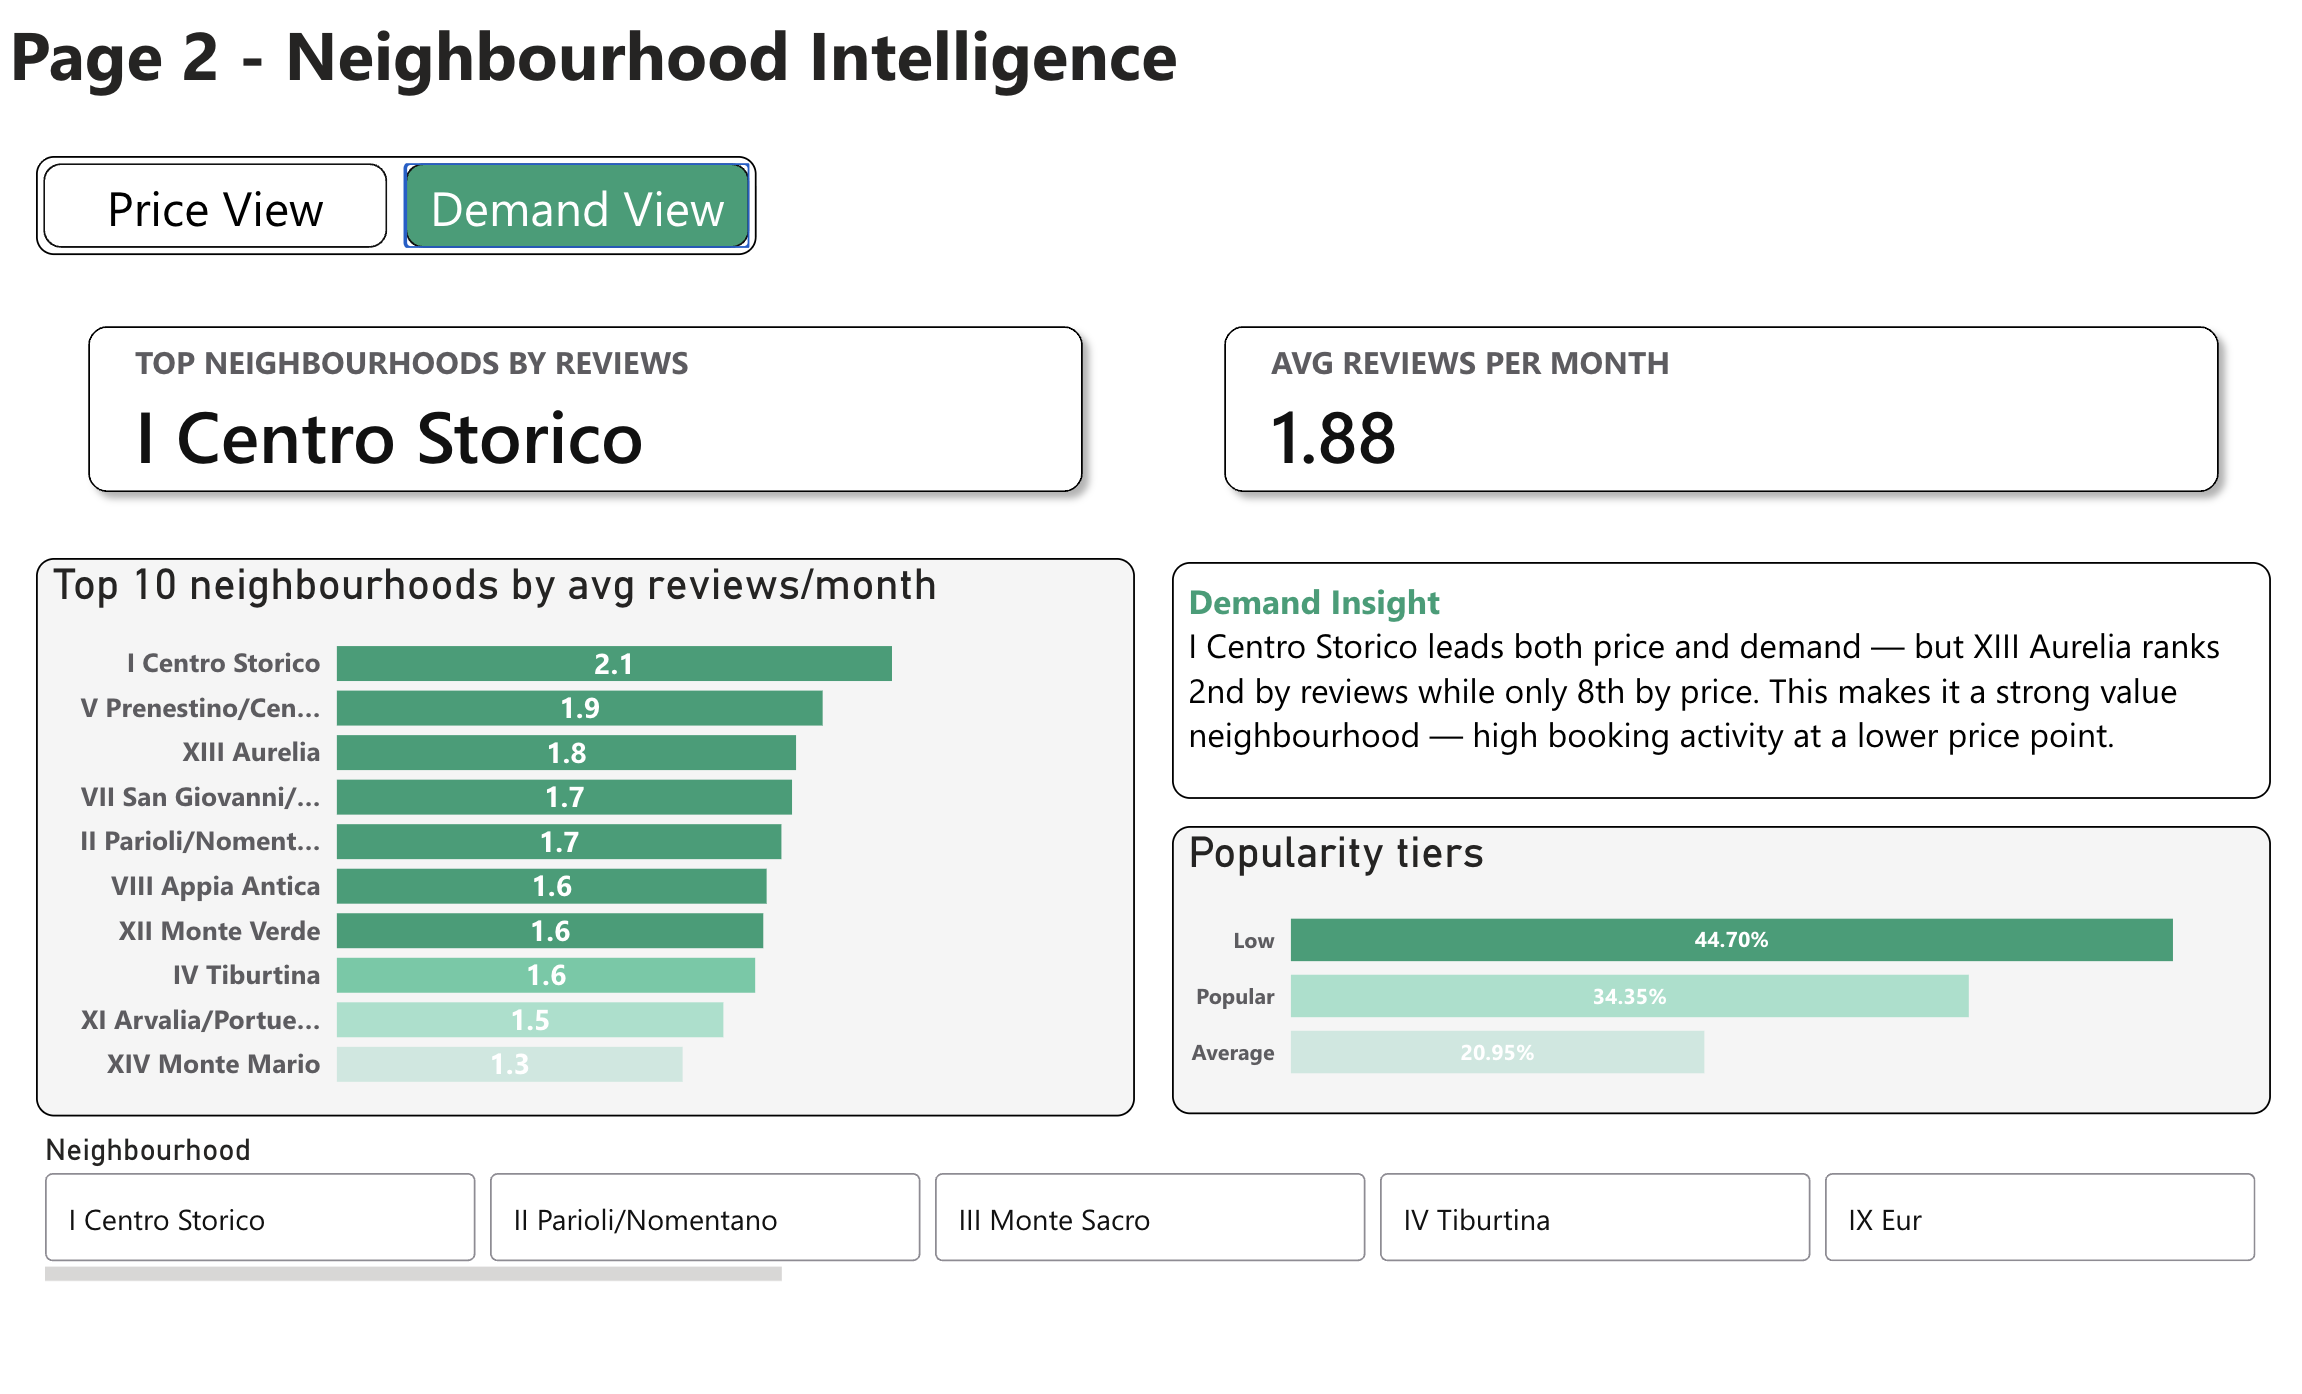

This screenshot's page, from the dashboard's own definition file:
{"tool":"powerbi","page":{"name":"Neighbourhood Intelligence","canvas":[1280,720],"ordinal":1},"visuals":[{"type":"textbox","box":[0,0,1280,70],"z":0},{"type":"cardVisual","fields":{"Data":["AllMeasures.Top Neighbourhood By Reviews"]},"box":[20,153,610,150],"z":2000},{"type":"barChart","title":"Top 10 neighbourhoods by avg reviews/month","fields":{"Category":["airbnb_data.neighbourhood"],"Y":["AllMeasures.Avg Reviews Per Month"]},"box":[20,311,610,310],"z":4000},{"type":"textbox","box":[650,313,610,131.7],"z":6000},{"type":"advancedSlicerVisual","fields":{"Values":["airbnb_data.neighbourhood"]},"box":[20,632,1240,88.3],"z":8000},{"type":"cardVisual","fields":{"Data":["AllMeasures.Avg Reviews Per Month"]},"box":[650,153,610,150],"z":10000},{"type":"clusteredBarChart","title":"Popularity tiers","fields":{"Y":["AllMeasures.Total Listings"],"Category":["airbnb_data.Popularity"]},"box":[650,460,610,160],"z":11000},{"type":"bookmarkNavigator","box":[20,88,400,55],"z":12000}]}

Visuals, with their boxes on the page's 1280x720 design canvas (x1, y1, x2, y2). These are canvas units, not pixel positions in the 2302x1394 screenshot, which may show the page scaled, cropped or inside an application window:
textbox: detection(0, 0, 1280, 70)
cardVisual - AllMeasures.Top Neighbourhood By Reviews: detection(20, 153, 630, 303)
"Top 10 neighbourhoods by avg reviews/month" barChart: detection(20, 311, 630, 621)
textbox: detection(650, 313, 1260, 445)
advancedSlicerVisual - airbnb_data.neighbourhood: detection(20, 632, 1260, 720)
cardVisual - AllMeasures.Avg Reviews Per Month: detection(650, 153, 1260, 303)
"Popularity tiers" clusteredBarChart: detection(650, 460, 1260, 620)
bookmarkNavigator: detection(20, 88, 420, 143)
